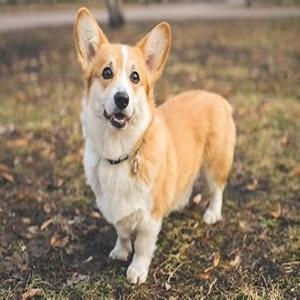dog: (68, 25, 242, 271)
